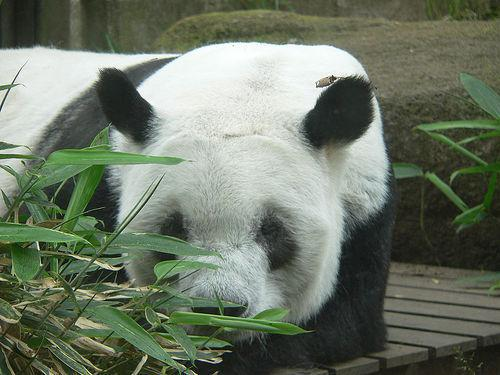panda: (0, 42, 395, 374), (0, 170, 18, 197), (55, 182, 72, 207)
